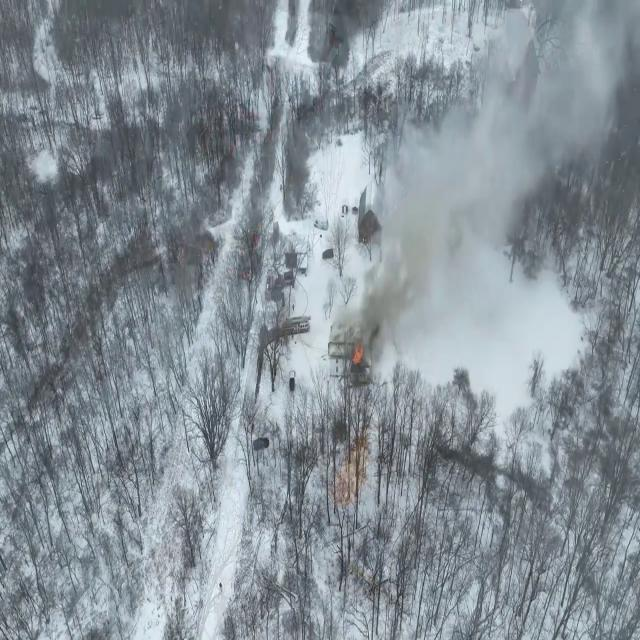Smoke: (348, 0, 639, 376)
